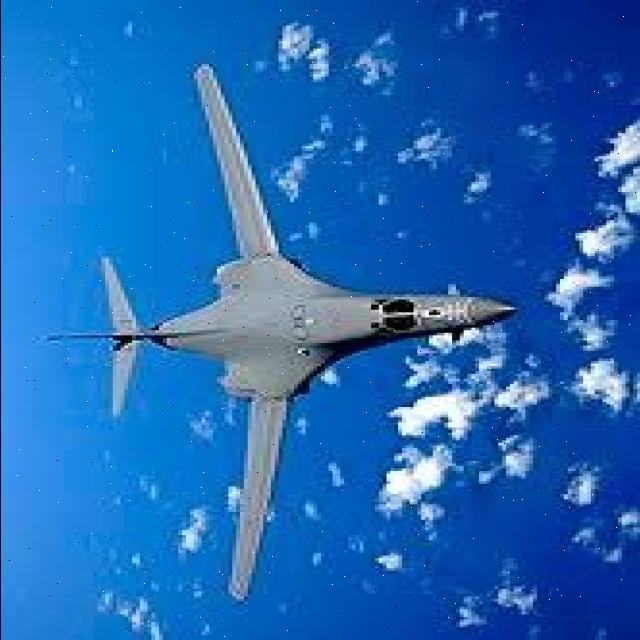B1: (37, 28, 547, 622)
